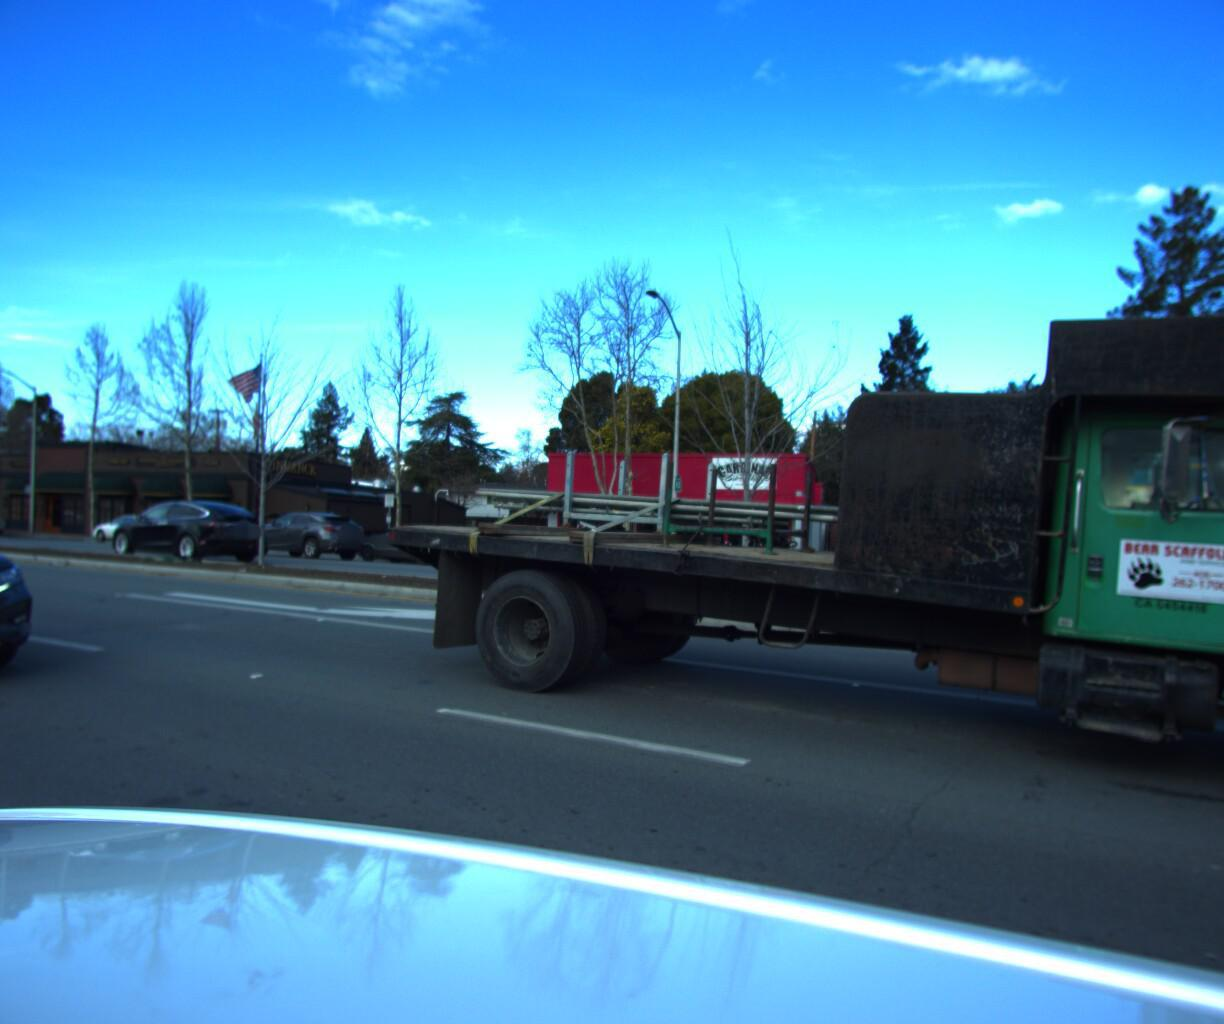car: (0, 448, 76, 722), (98, 490, 276, 561), (239, 501, 372, 556), (346, 519, 477, 566), (85, 507, 184, 545), (0, 502, 10, 532)
truck: (360, 203, 1224, 884)
